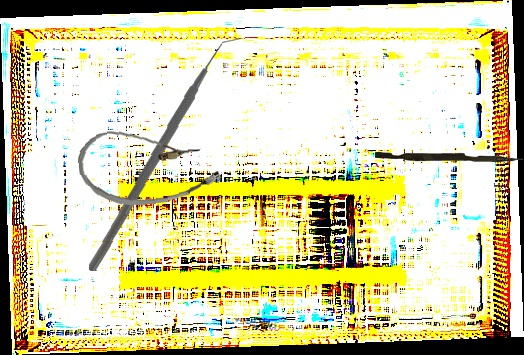Cannula: (75, 122, 223, 210)
Chopper: (81, 37, 253, 272)
Pusher: (375, 152, 523, 162)
